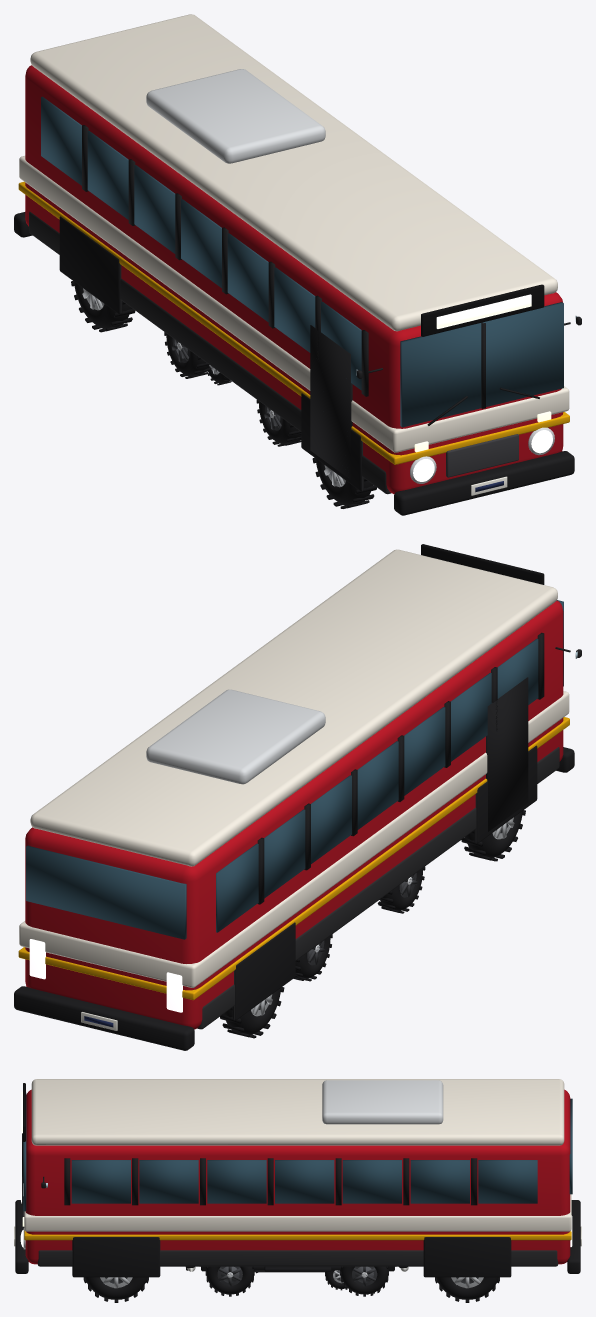
The model's file is vehicles.glb.
3 views of the same model, one above another, from view 1: azimuth 30°, elevation 25°; view 2: azimuth 150°, elevation 25°; view 3: azimuth 270°, elevation 25° (orthographic). The views are drawn at different scales.
Parts seen in each view (by area): view 1: body.003, wheel_fr.001, wheel_rr.002, wheel_rr.001, wheel_fr; view 2: body.003, wheel_fr.001, wheel_rr.002, wheel_fr, wheel_rr.001; view 3: body.003, wheel_fl, wheel_rl.001, wheel_rl.002, wheel_fl.001, body.002.
Boxes of the visible parts, x1=… form: body.003: x1=14, y1=14, x2=581, y2=515; wheel_fr.001: x1=312, y1=457, x2=376, y2=508; wheel_rr.002: x1=71, y1=281, x2=135, y2=332; wheel_rr.001: x1=164, y1=332, x2=211, y2=378; wheel_fr: x1=256, y1=400, x2=301, y2=446; body.003: x1=14, y1=544, x2=581, y2=1050; wheel_fr.001: x1=461, y1=810, x2=525, y2=861; wheel_rr.002: x1=220, y1=987, x2=284, y2=1038; wheel_fr: x1=377, y1=867, x2=425, y2=913; wheel_rr.001: x1=295, y1=934, x2=332, y2=981; body.003: x1=14, y1=1079, x2=581, y2=1277; wheel_fl: x1=205, y1=1266, x2=254, y2=1296; wheel_rl.001: x1=340, y1=1266, x2=388, y2=1296; wheel_rl.002: x1=435, y1=1277, x2=499, y2=1302; wheel_fl.001: x1=83, y1=1277, x2=148, y2=1302; body.002: x1=186, y1=1266, x2=407, y2=1271.
Size of the model in its own units: 3.1 by 3.22 by 9.38.
